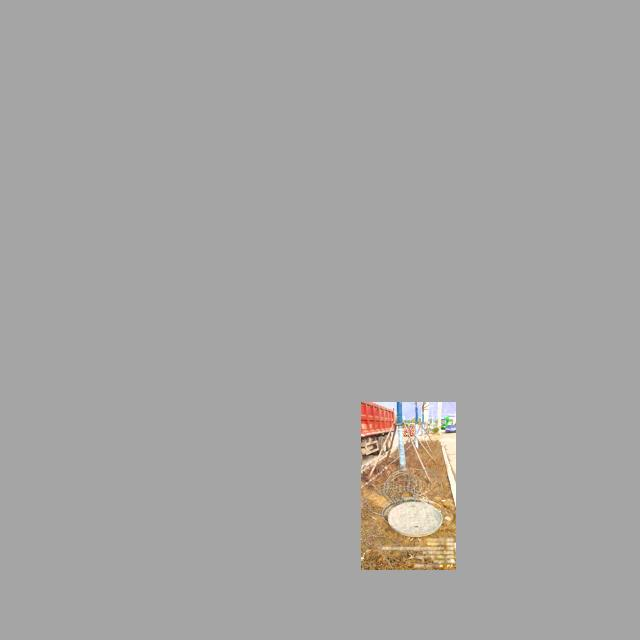uncovered: (383, 497, 443, 536)
